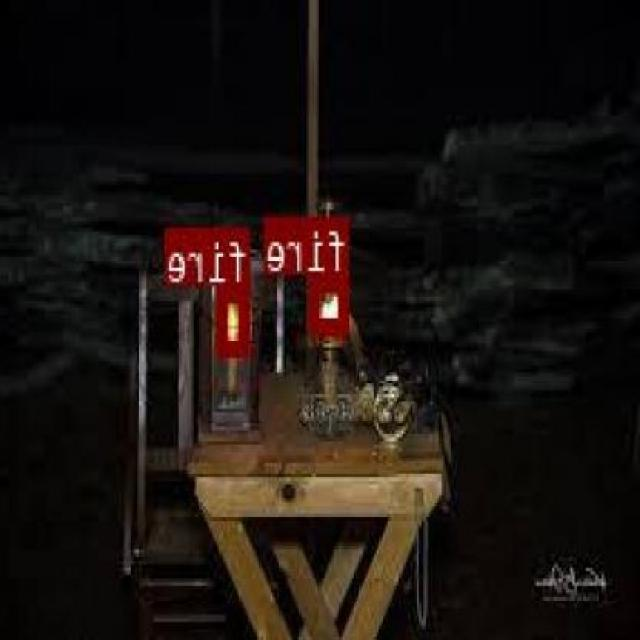fire: (312, 270, 351, 332), (220, 284, 251, 352)
